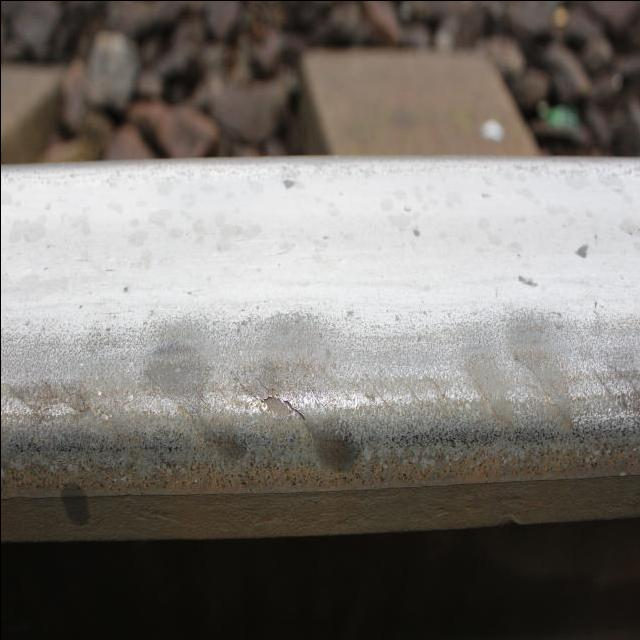broken_rail_medium: (257, 391, 349, 451), (514, 271, 541, 287), (570, 241, 590, 260), (282, 176, 296, 190)
